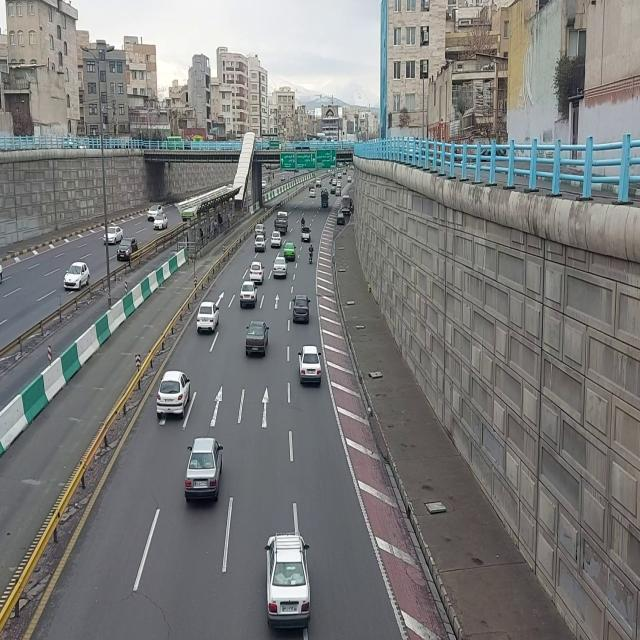Car: (265, 529, 313, 631), (183, 436, 225, 506), (155, 369, 192, 425), (245, 320, 271, 360), (298, 345, 322, 385), (62, 261, 90, 293), (196, 301, 220, 335), (292, 292, 312, 326), (117, 232, 139, 262), (240, 280, 259, 310), (103, 223, 124, 247), (248, 261, 266, 285), (273, 254, 289, 280), (153, 212, 168, 232), (284, 241, 298, 261), (255, 234, 267, 254), (271, 231, 283, 249), (255, 224, 267, 237), (337, 213, 346, 227), (334, 187, 342, 197), (330, 184, 336, 196), (309, 188, 316, 198), (347, 176, 353, 184), (337, 172, 343, 180), (309, 183, 315, 190), (281, 174, 286, 182), (337, 180, 342, 186)
Motorcycle: (308, 242, 315, 267), (301, 216, 306, 231)
Pickup: (301, 226, 312, 243), (321, 190, 329, 208), (316, 176, 323, 188)
Truck: (274, 210, 289, 235)
